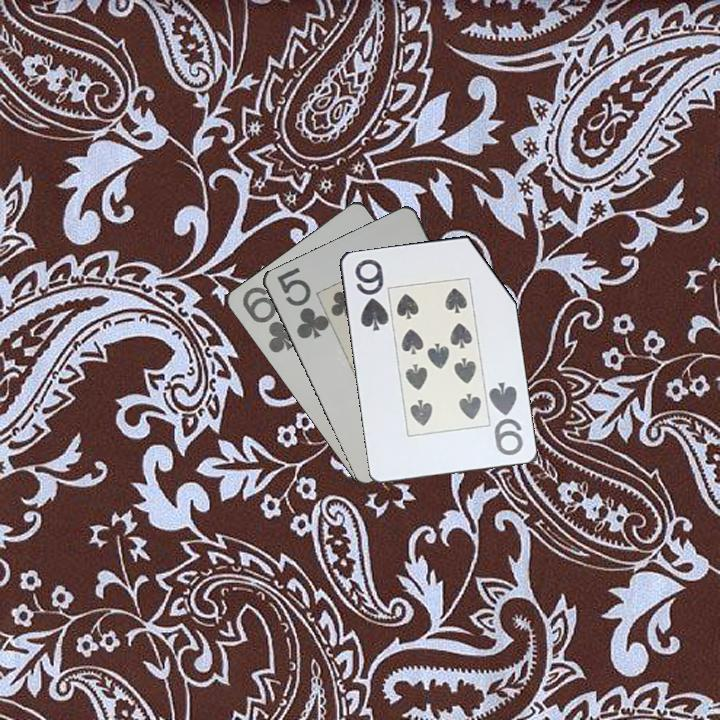5c: (273, 263, 330, 342)
6c: (238, 283, 301, 356)
9s: (485, 378, 526, 458), (351, 255, 390, 334)
